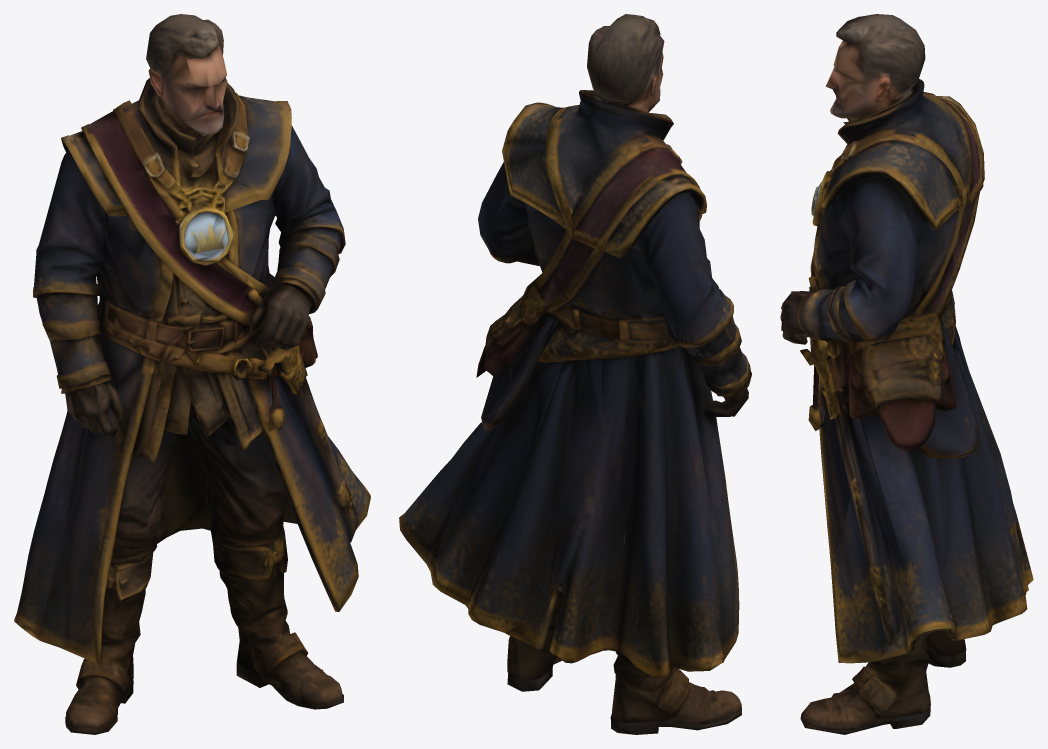
Rendered from mayor.glb.
3 renders of one model, left to right at view 1: azimuth 30°, elevation 25°; view 2: azimuth 150°, elevation 25°; view 3: azimuth 270°, elevation 25°, orthographic. The views are drawn at different scales.
Visible parts, largest first — view 1: material; view 2: material; view 3: material.
Boxes of the visible parts, x1,y1,x2,y2 form: material: (14, 14, 370, 734); material: (399, 14, 751, 734); material: (780, 14, 1033, 734).
Bounding box in the file's own units: 0.5592 × 1.09 × 0.38.
1 material, 1 textured.
